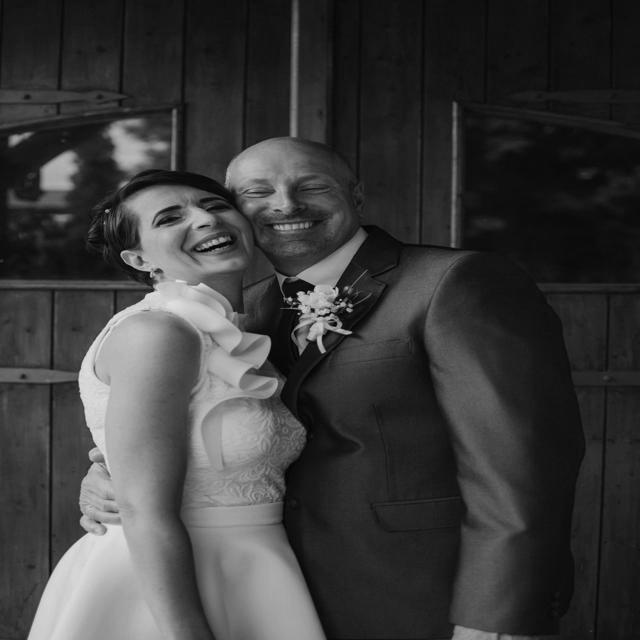Happiness: (225, 134, 357, 264), (123, 178, 257, 285)
